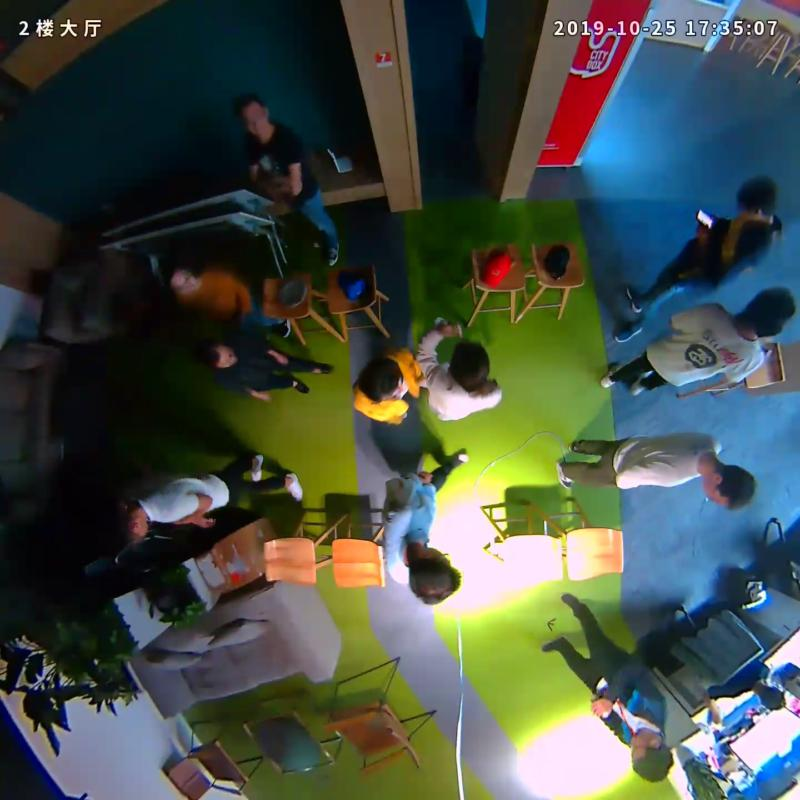head: (410, 545, 461, 606), (702, 463, 757, 510), (743, 287, 795, 336), (630, 726, 673, 782), (449, 340, 492, 391), (737, 174, 781, 222), (359, 359, 405, 402), (106, 507, 149, 548), (157, 259, 197, 297), (236, 94, 269, 135), (196, 339, 238, 370)
